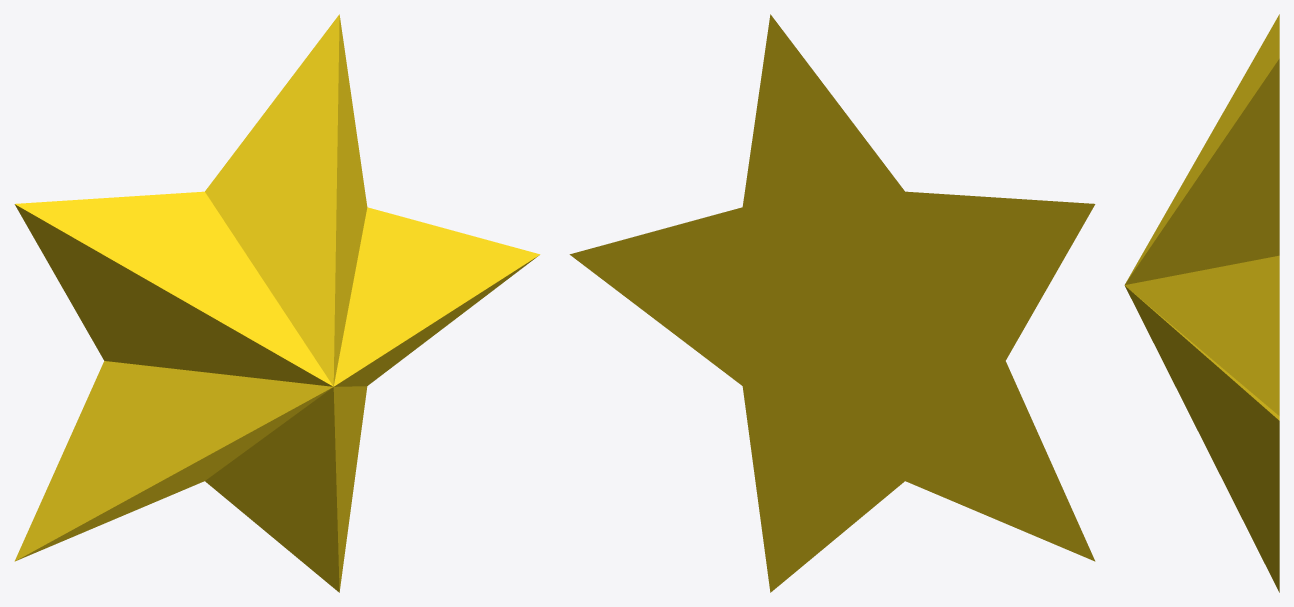
The model's file is tinker.obj.
3 renders of one model, left to right at view 1: azimuth 30°, elevation 25°; view 2: azimuth 150°, elevation 25°; view 3: azimuth 270°, elevation 25°, orthographic. The views are drawn at different scales.
Visible parts, largest first — view 1: obj_0; view 2: obj_0; view 3: obj_0.
Boxes of the visible parts, bbox=[...] form: obj_0: bbox=[14, 14, 540, 592]; obj_0: bbox=[569, 14, 1095, 592]; obj_0: bbox=[1124, 14, 1279, 592].
Bounding box in the file's own units: 36.18 × 38.04 × 10.
